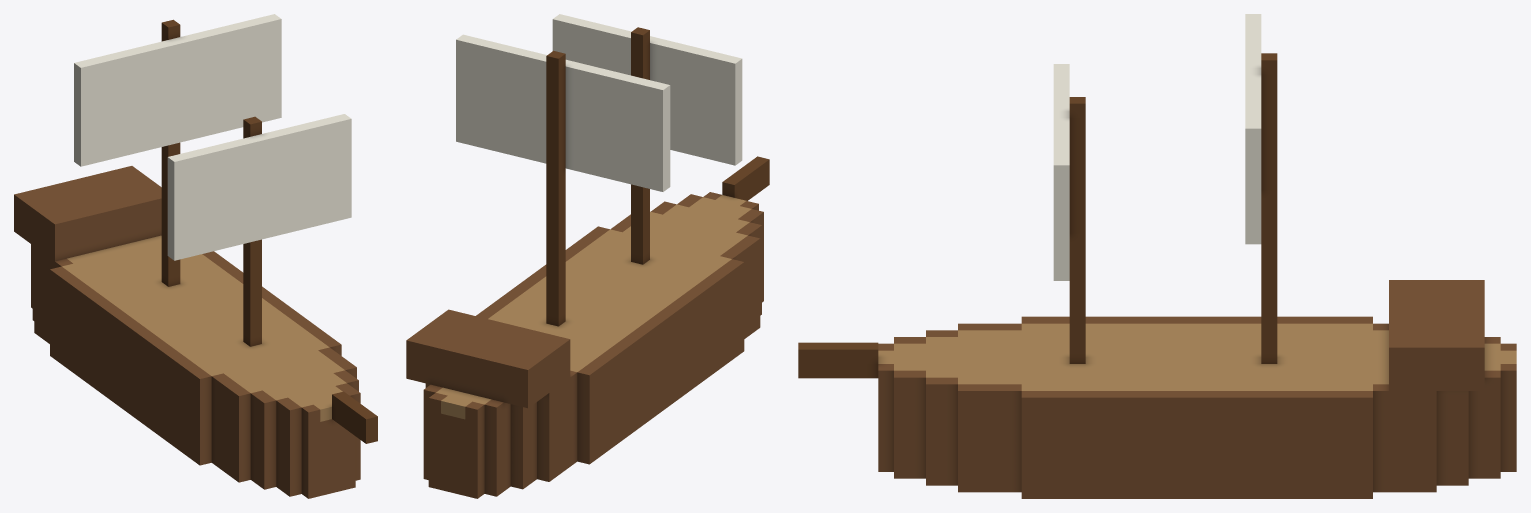
Rendered from u_sail.glb.
3 views of the same model, side by side, from view 1: azimuth 30°, elevation 25°; view 2: azimuth 150°, elevation 25°; view 3: azimuth 270°, elevation 25° (orthographic). The views are drawn at different scales.
Visible parts, largest first — view 1: u_sail_body; view 2: u_sail_body; view 3: u_sail_body.
Boxes of the visible parts, left/top/right/bottom form: u_sail_body: left=14, top=14, right=377, bottom=498; u_sail_body: left=406, top=14, right=769, bottom=498; u_sail_body: left=798, top=14, right=1516, bottom=498.
Bounding box in the file's own units: 1.06 × 1.75 × 2.81.
Materials: 1 (1 with a texture image).
